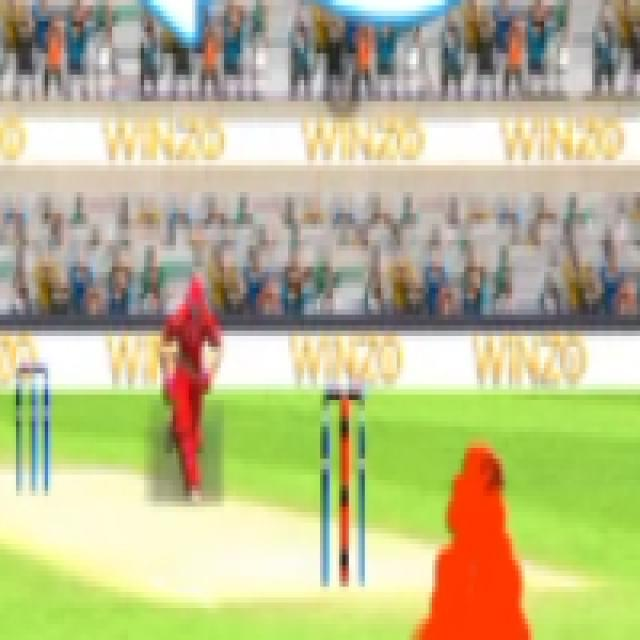stumps: (315, 388, 376, 596), (16, 353, 56, 500)
